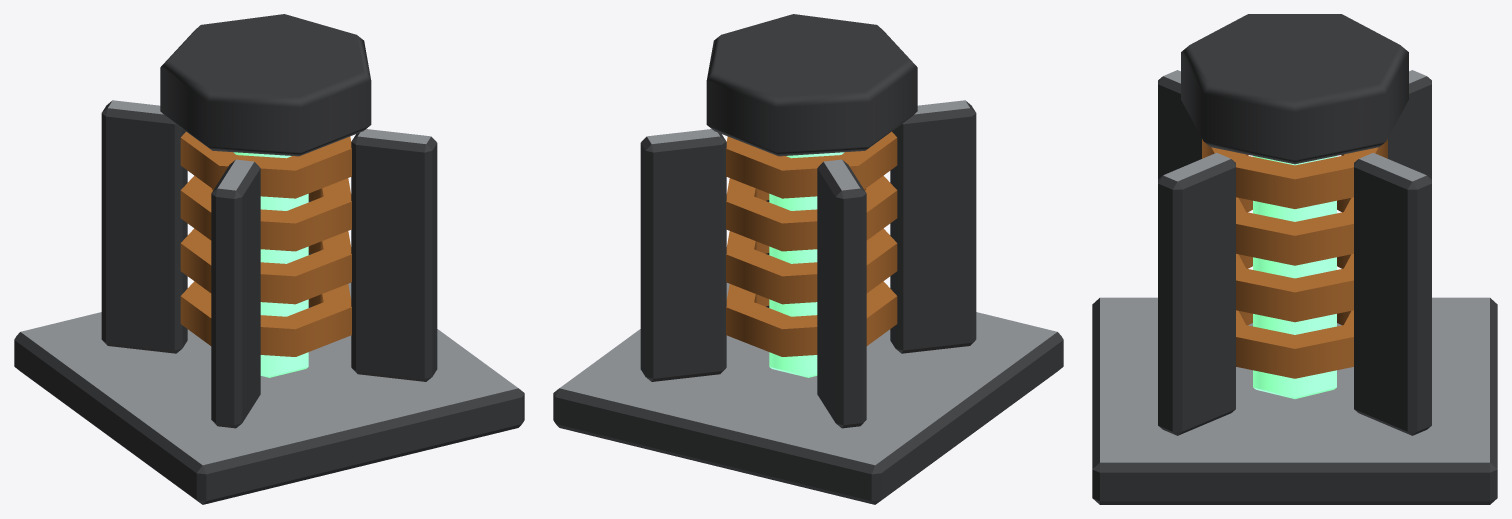
The model's file is R4X_EnergyRegenerator_LOD1.fbx.
3 renders of one model, left to right at view 1: azimuth 30°, elevation 25°; view 2: azimuth 150°, elevation 25°; view 3: azimuth 270°, elevation 25°, orthographic. The views are drawn at different scales.
Visible parts, largest first — view 1: R4X_EnergyRegenerator_LOD1; view 2: R4X_EnergyRegenerator_LOD1; view 3: R4X_EnergyRegenerator_LOD1.
Part boxes in pixels (box(x1,y1,x2,y2)): R4X_EnergyRegenerator_LOD1: box(14, 14, 524, 504); R4X_EnergyRegenerator_LOD1: box(553, 14, 1063, 504); R4X_EnergyRegenerator_LOD1: box(1092, 14, 1497, 504).
Size of the model in its own units: 0.52 by 0.52 by 0.52.
